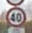limite 40: (5, 6, 26, 27)
